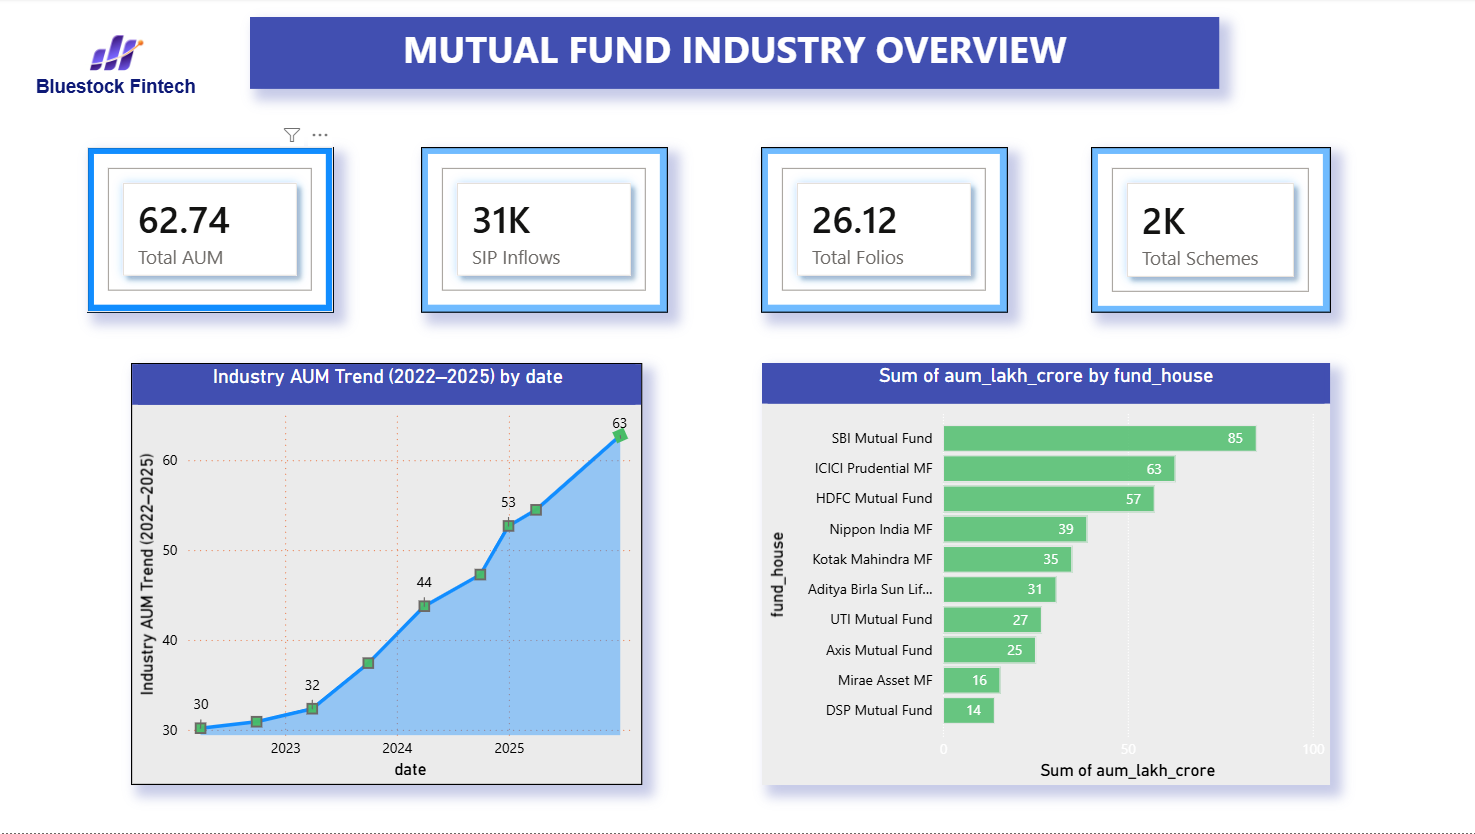

Layout of this report page (visuals, bound fields, positions):
{"tool":"powerbi","page":{"name":"Industry Overview","canvas":[1280,720],"ordinal":0},"visuals":[{"type":"textbox","box":[221.8,16.5,836.5,62.2],"z":0},{"type":"cardVisual","fields":{"Data":["aum_by_fund_house_clean.Total AUM Latest"]},"box":[80.8,128.3,212.5,142.5],"z":1000},{"type":"cardVisual","fields":{"Data":["monthly_sip_inflows_clean.Latest SIP Inflows"]},"box":[369.2,128.3,212.5,142.5],"z":2000},{"type":"cardVisual","fields":{"Data":["industry_folio_count_clean.Latest Folios"]},"box":[662.5,128.3,212.5,142.5],"z":3000},{"type":"cardVisual","fields":{"Data":["aum_by_fund_house_clean.Latest Total Schemes"]},"box":[946.7,128.3,206.7,143.3],"z":4000},{"type":"lineChart","fields":{"Category":["aum_by_fund_house_clean.date"],"Y":["Sum(aum_by_fund_house_clean.aum_lakh_crore)"]},"box":[119,315,441,364],"z":5000},{"type":"clusteredBarChart","fields":{"Category":["aum_by_fund_house_clean.fund_house"],"Y":["Sum(aum_by_fund_house_clean.aum_lakh_crore)"]},"box":[663,315,490,364],"z":6000},{"type":"image","box":[13.3,16.7,186.7,61.7],"z":7000},{"type":"textbox","box":[23.3,63.3,165,28.3],"z":8000}]}

Visuals, with their boxes in screenshot pixels (x1, y1, x2, y2), scaled from the page's 1280x720 canvas onto the 1475x834 screenshot:
textbox: left=256, top=19, right=1220, bottom=91
cardVisual - aum_by_fund_house_clean.Total AUM Latest: left=93, top=149, right=338, bottom=314
cardVisual - monthly_sip_inflows_clean.Latest SIP Inflows: left=425, top=149, right=670, bottom=314
cardVisual - industry_folio_count_clean.Latest Folios: left=763, top=149, right=1008, bottom=314
cardVisual - aum_by_fund_house_clean.Latest Total Schemes: left=1091, top=149, right=1329, bottom=315
lineChart - aum_by_fund_house_clean.date x Sum(aum_by_fund_house_clean.aum_lakh_crore): left=137, top=365, right=645, bottom=787
clusteredBarChart - aum_by_fund_house_clean.fund_house x Sum(aum_by_fund_house_clean.aum_lakh_crore): left=764, top=365, right=1329, bottom=787
image: left=15, top=19, right=230, bottom=91
textbox: left=27, top=73, right=217, bottom=106
